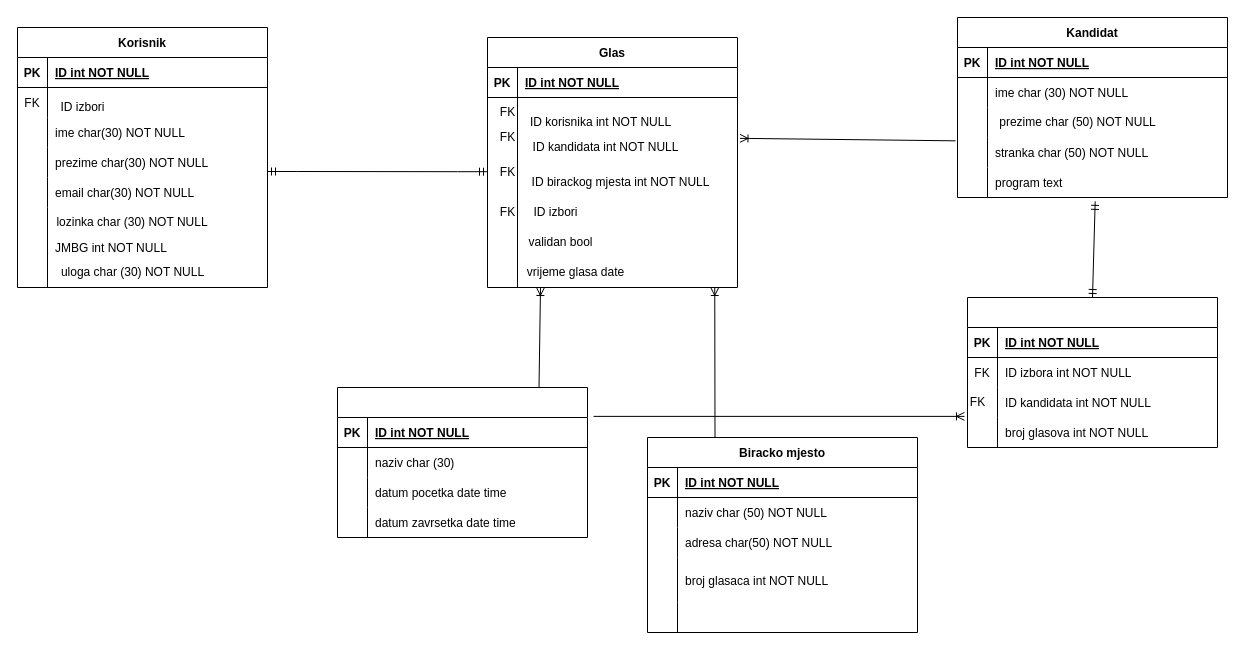
This 1245x650 diagram has some shape labels left out. Here are the shapes that lost their labels. From the top down, the box of each, then its label:
(966, 296, 1218, 448): Rezultati
(336, 386, 588, 538): Izbori
